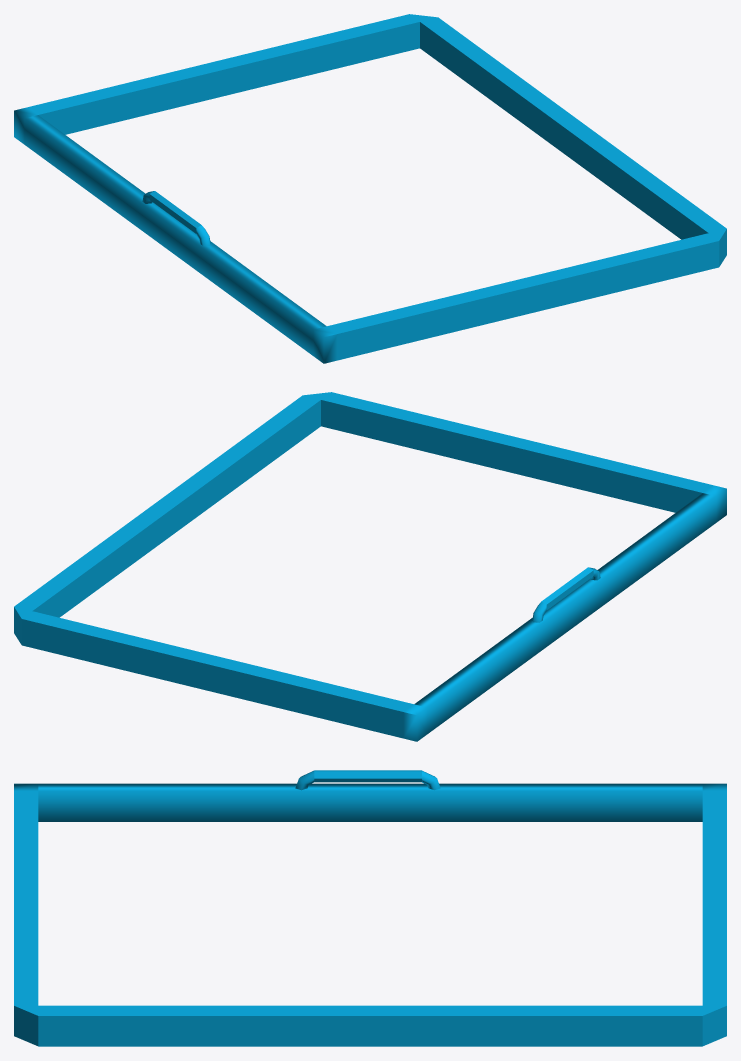
Rendered from Shop_Fridge_02_Door_L_Lod1.fbx.
3 renders of one model, top to bottom at view 1: azimuth 30°, elevation 25°; view 2: azimuth 150°, elevation 25°; view 3: azimuth 270°, elevation 25°, orthographic. The views are drawn at different scales.
Parts seen in each view (by area): view 1: Shop_Fridge_02_Door_L_Lod1; view 2: Shop_Fridge_02_Door_L_Lod1; view 3: Shop_Fridge_02_Door_L_Lod1.
Part boxes in pixels (bbox=[...]): Shop_Fridge_02_Door_L_Lod1: bbox=[14, 14, 726, 363]; Shop_Fridge_02_Door_L_Lod1: bbox=[14, 392, 726, 741]; Shop_Fridge_02_Door_L_Lod1: bbox=[14, 770, 726, 1046].
Size of the model in its own units: 68.61 by 6.55 by 89.
